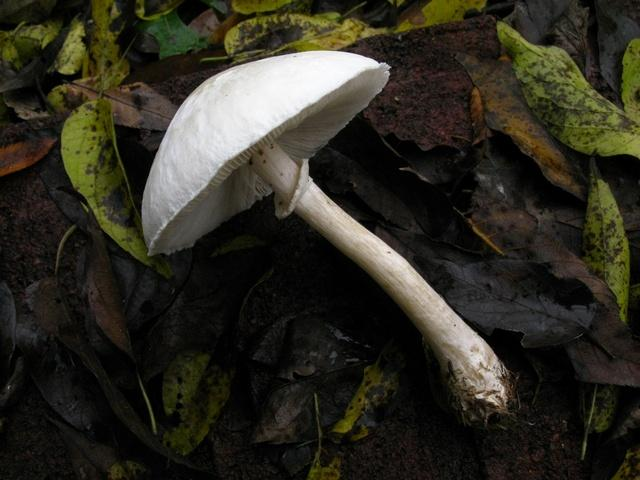Non-edible Mushroom: (139, 48, 518, 429)
